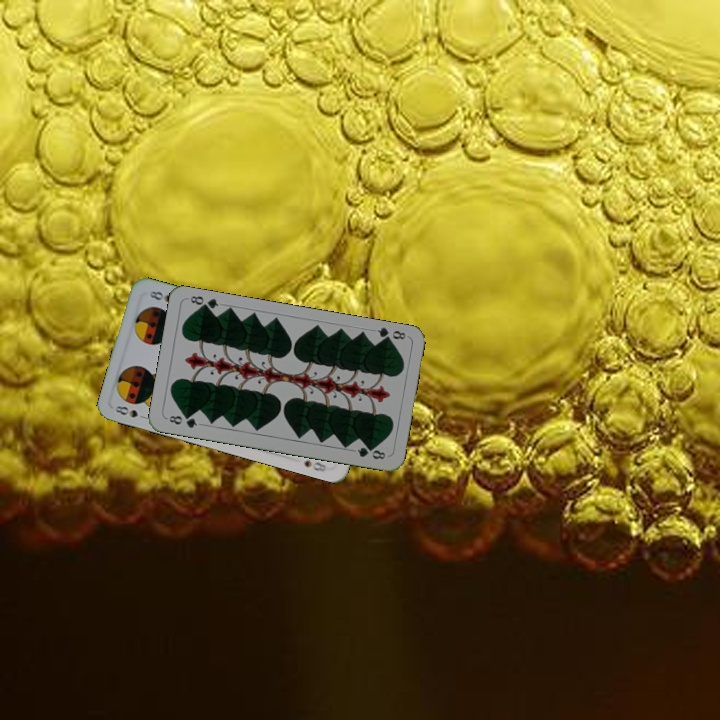G8: (373, 323, 408, 345), (165, 411, 200, 431)
S8: (111, 401, 151, 422)
